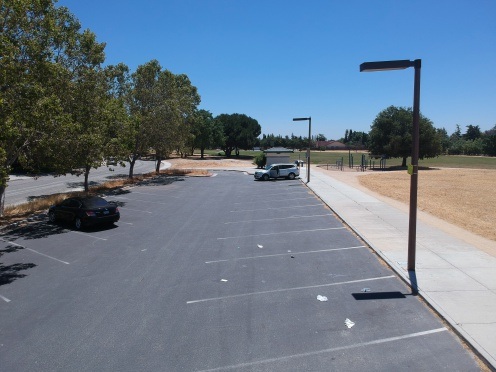bottle: (358, 286, 374, 292)
can: (288, 253, 298, 260)
plastic bag: (314, 292, 330, 303), (343, 317, 355, 329)
